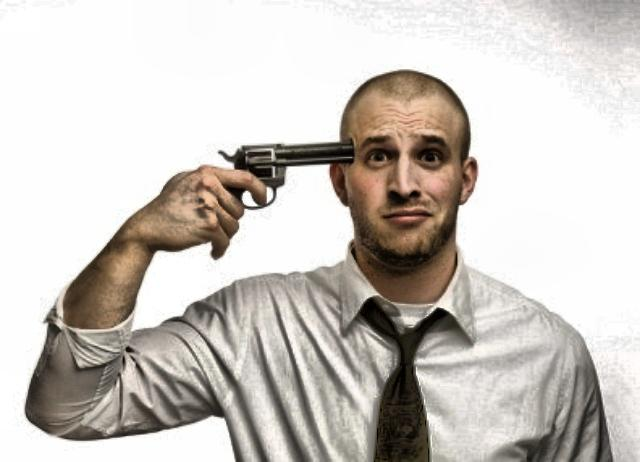pistol: (212, 134, 352, 210)
